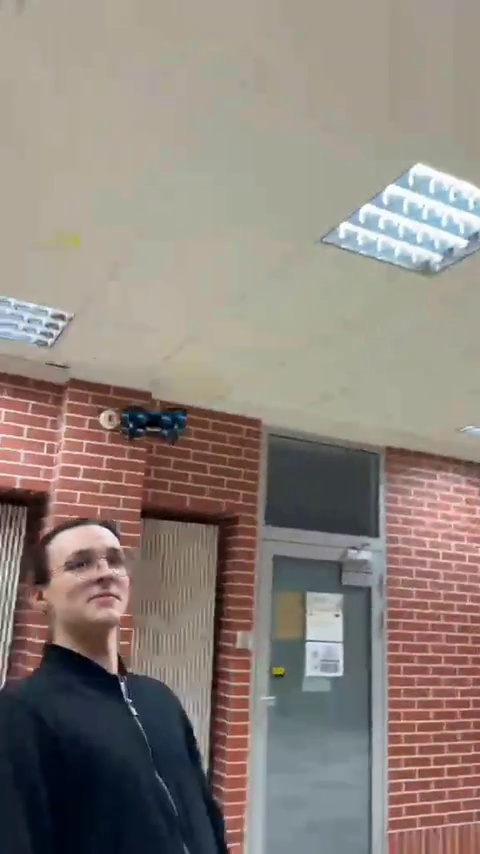drone: (116, 402, 194, 439)
no vest: (5, 515, 237, 854)
